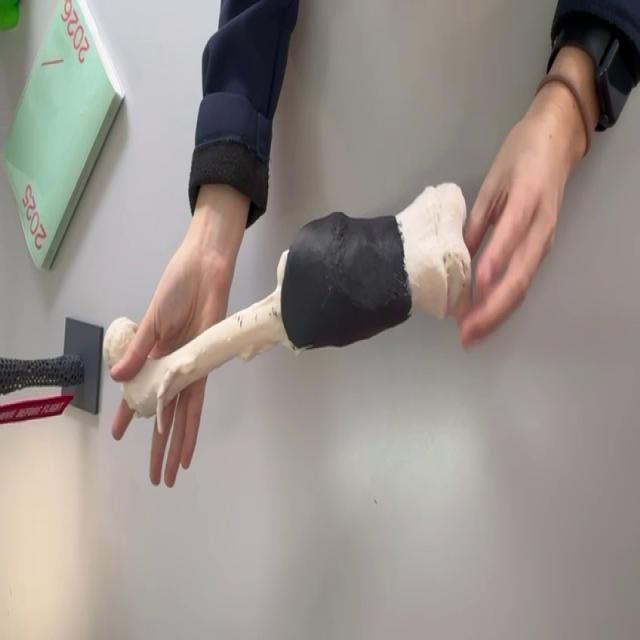bones: (122, 183, 470, 433)
